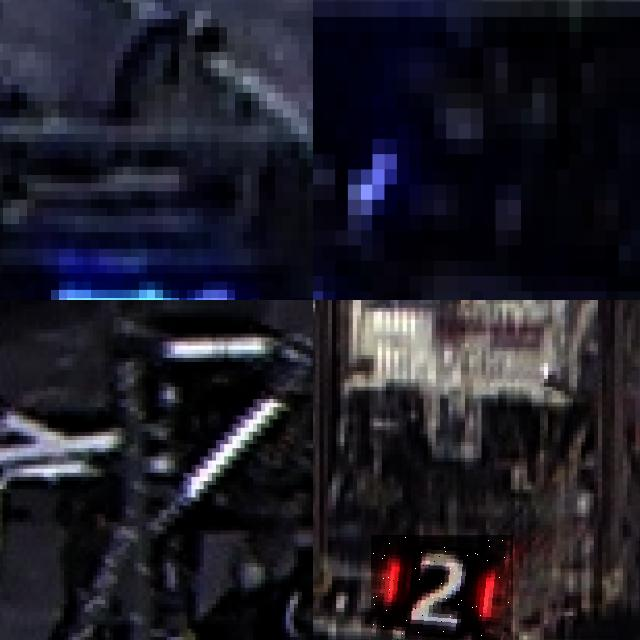R2: (371, 534, 512, 640)
